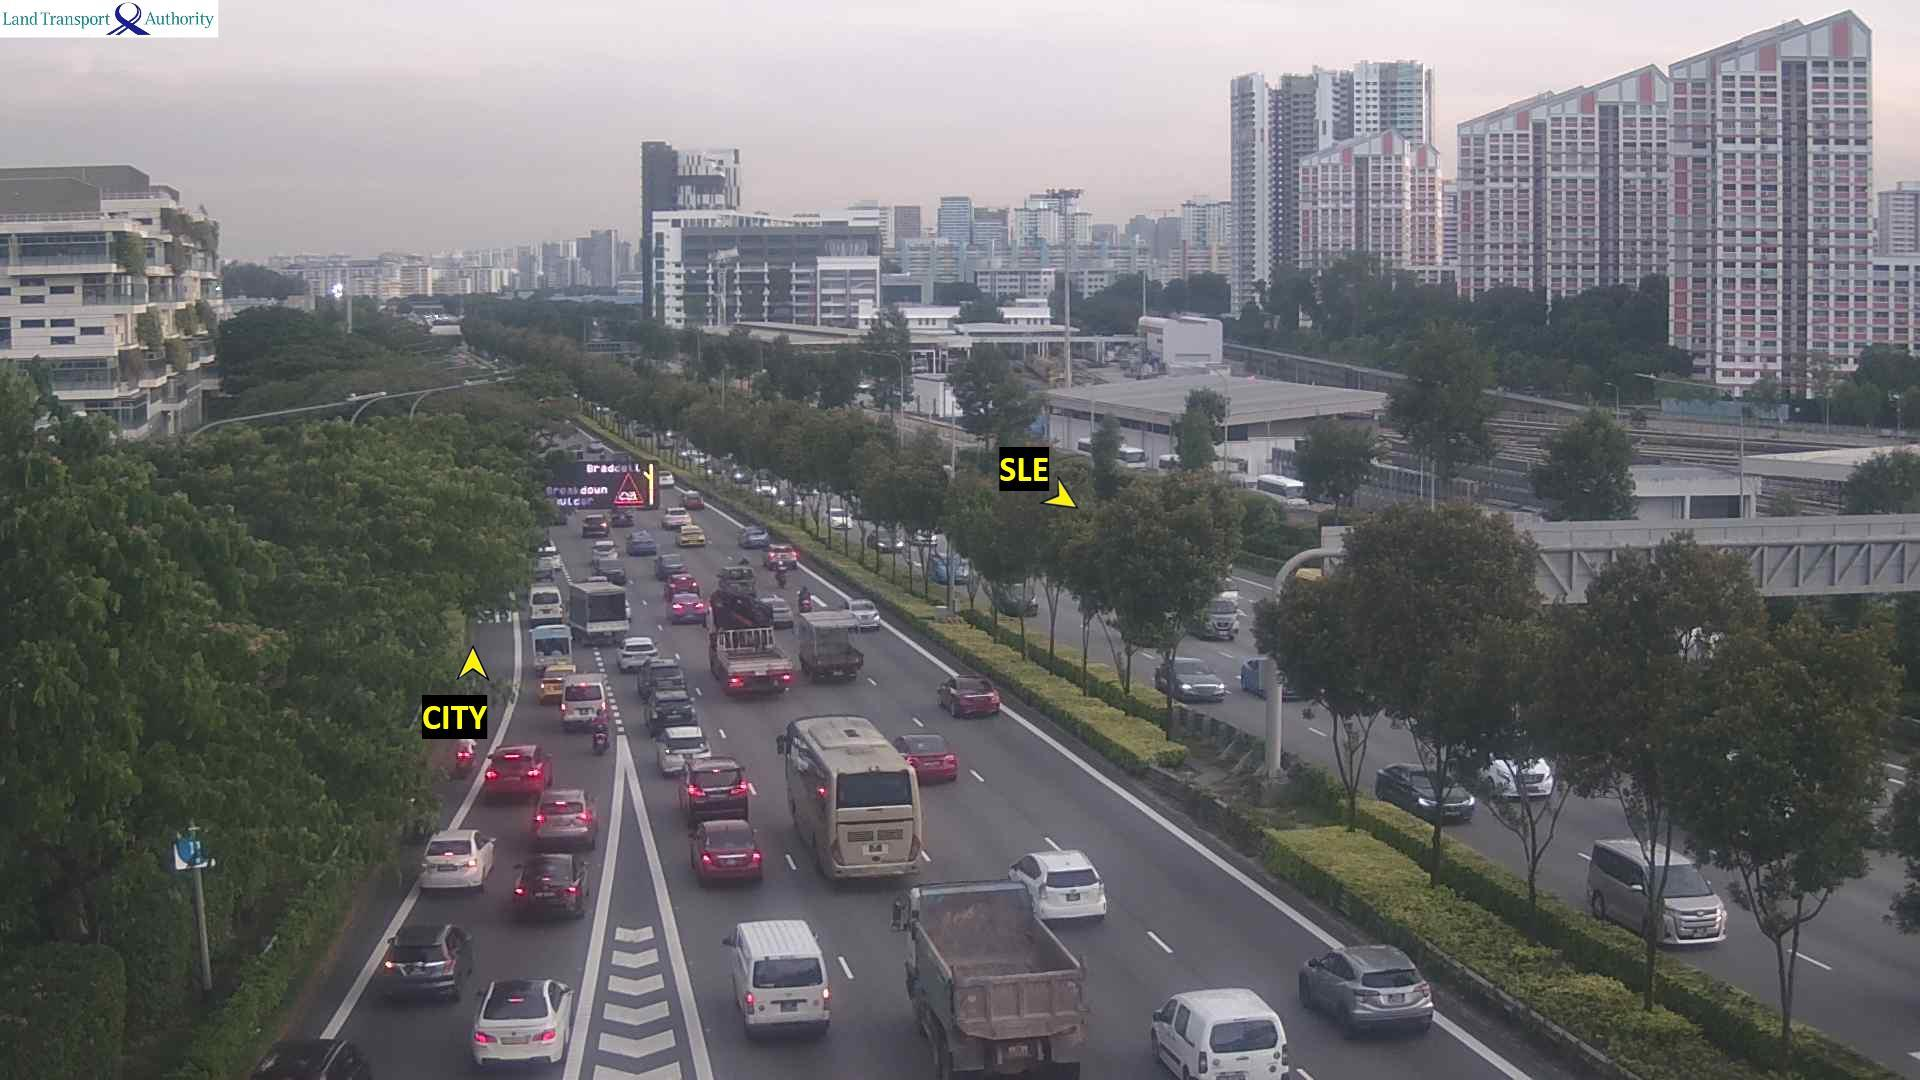incoming: (1652, 865, 1730, 944), (1416, 769, 1474, 820), (1174, 661, 1224, 702), (1203, 601, 1241, 640)
